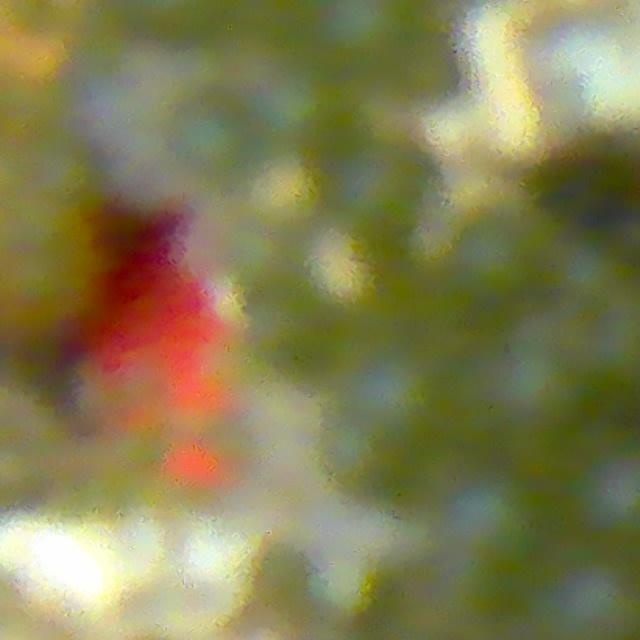SeaGrape: (446, 465, 545, 567), (529, 552, 640, 640), (341, 348, 443, 440), (298, 226, 383, 317), (256, 60, 346, 145), (496, 344, 583, 427), (316, 0, 418, 68), (574, 438, 640, 541), (455, 217, 534, 300), (247, 157, 325, 233), (173, 104, 249, 179)
